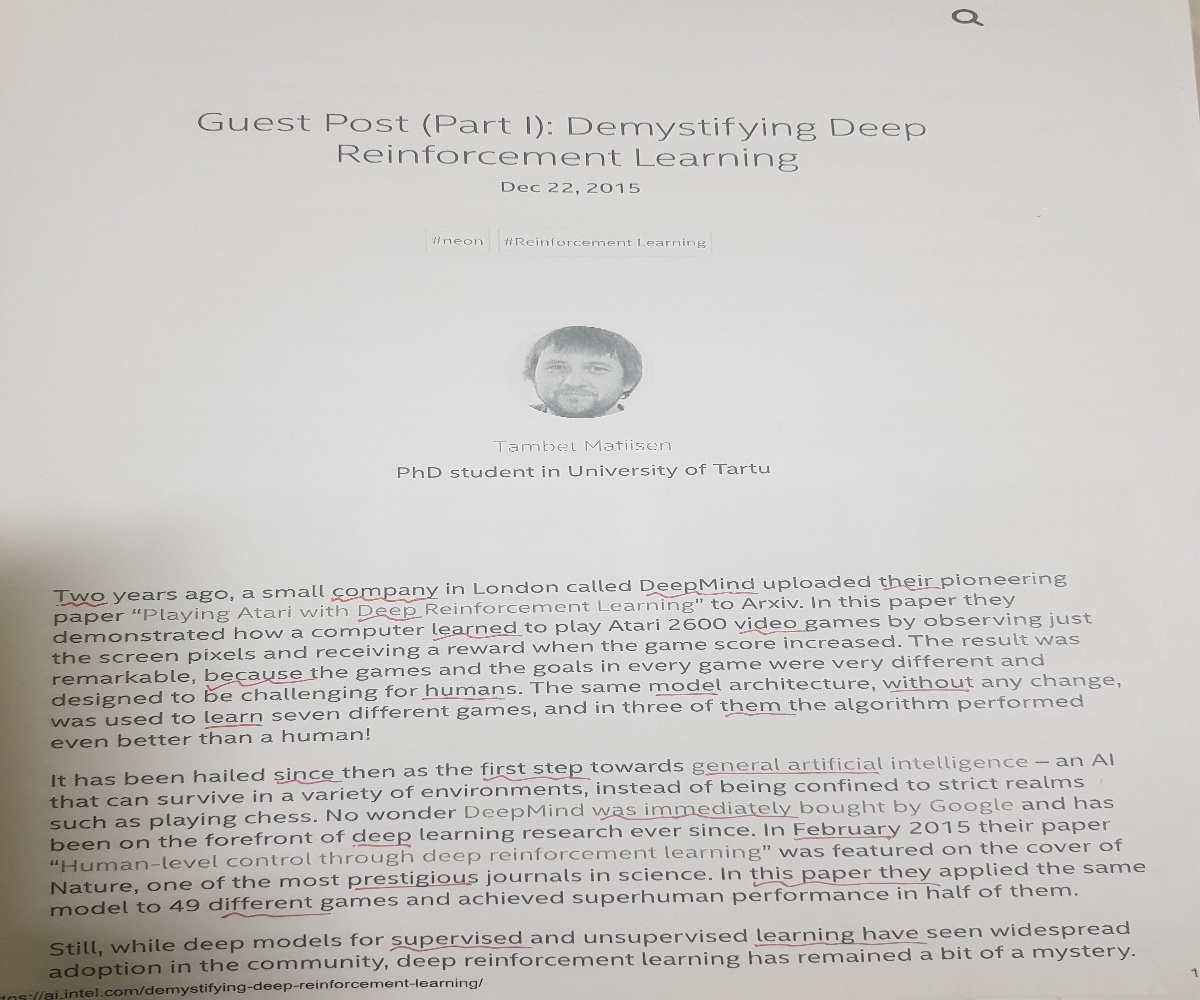underline: (594, 812, 799, 822), (750, 879, 944, 888), (754, 939, 927, 949), (219, 909, 332, 920), (386, 943, 539, 951), (479, 773, 592, 783), (204, 678, 316, 688), (706, 770, 882, 775), (420, 693, 507, 703), (353, 883, 475, 890), (791, 833, 897, 841), (723, 708, 795, 719), (429, 633, 525, 641), (330, 594, 438, 601), (273, 777, 345, 787), (351, 840, 415, 851), (643, 590, 754, 596), (888, 686, 968, 694), (358, 615, 427, 624), (735, 627, 817, 634), (52, 598, 115, 607), (652, 690, 724, 697), (204, 723, 264, 730), (883, 585, 943, 591)
